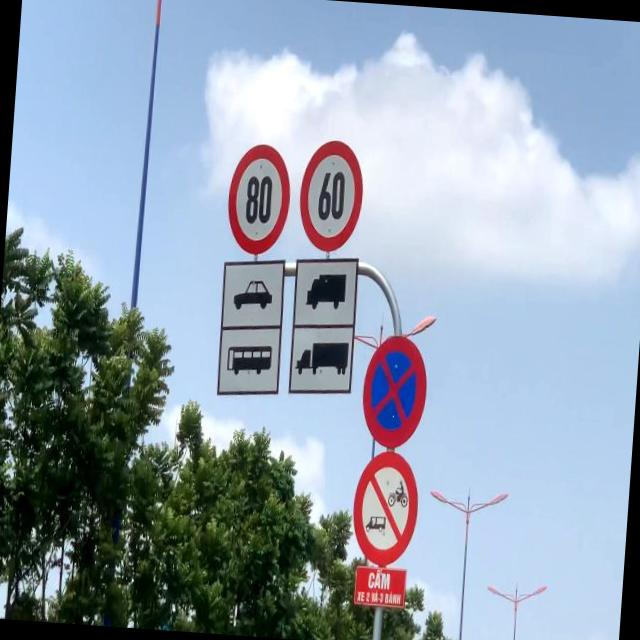P-104: (348, 449, 420, 565)
P-127: (225, 138, 292, 256), (300, 138, 364, 250)
P-130: (360, 332, 426, 446)
